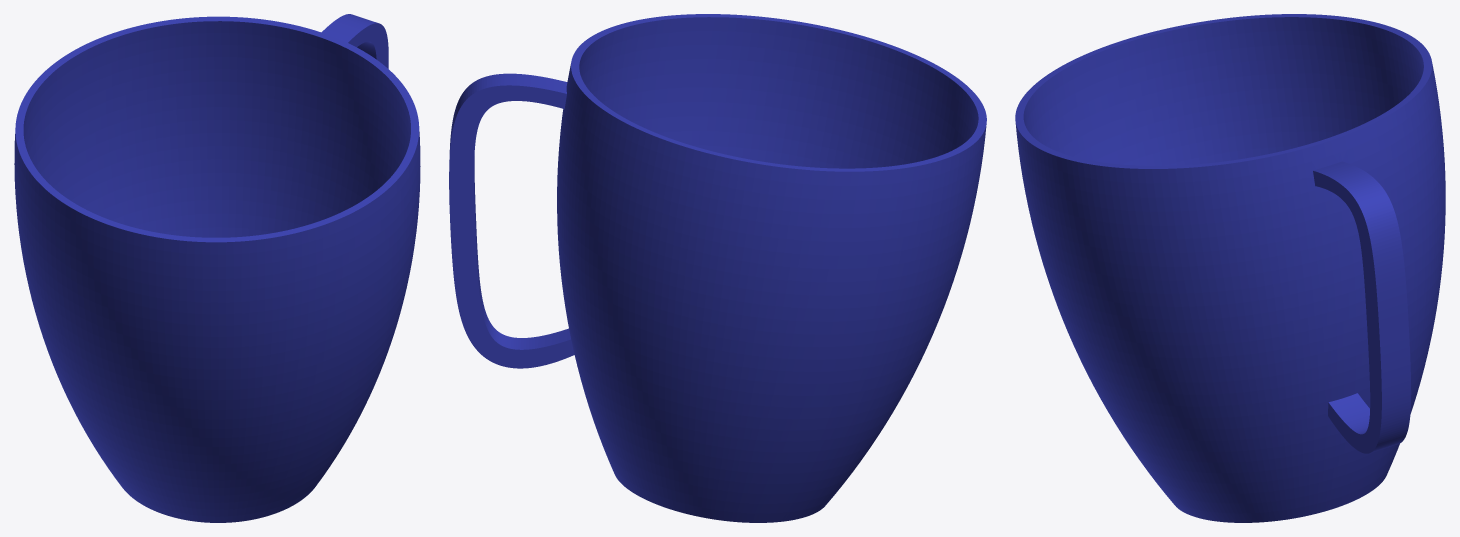
File: mochidonutcup.glb
The picture shows the model from 3 angles, left to right: view 1: azimuth 30°, elevation 25°; view 2: azimuth 150°, elevation 25°; view 3: azimuth 270°, elevation 25°; orthographic projection. The views are drawn at different scales.
Parts seen in each view (by area): view 1: node_id3; view 2: node_id3; view 3: node_id3.
Part boxes in pixels (x1,y1,x2,y2): node_id3: (14,14,420,522); node_id3: (449,14,986,522); node_id3: (1015,14,1445,522).
Size of the model in its own units: 0.4853 by 0.4493 by 0.4154.
1 material, 1 textured.
